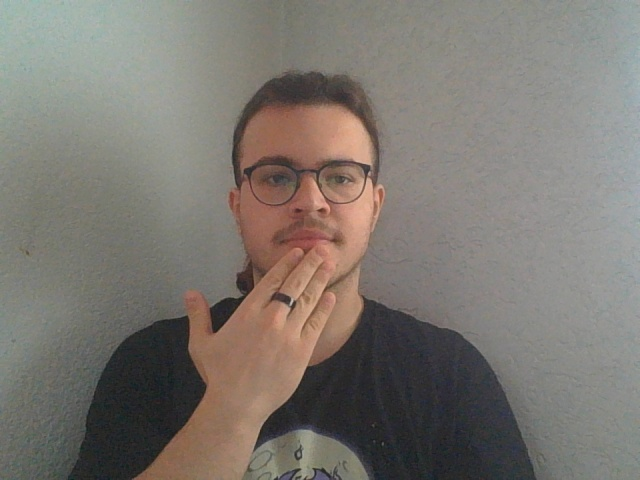ThankYou: (183, 240, 369, 480)
